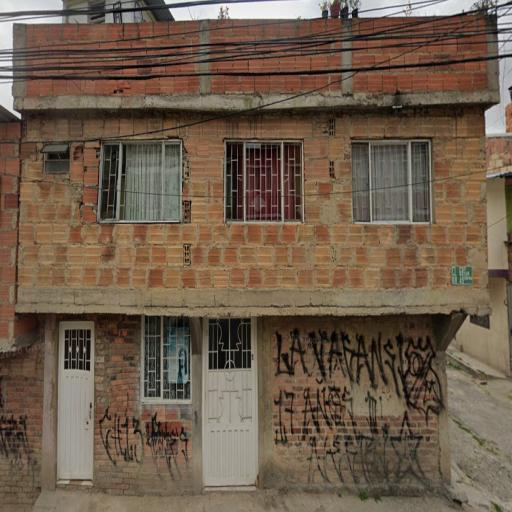Casa: (12, 12, 505, 492)
